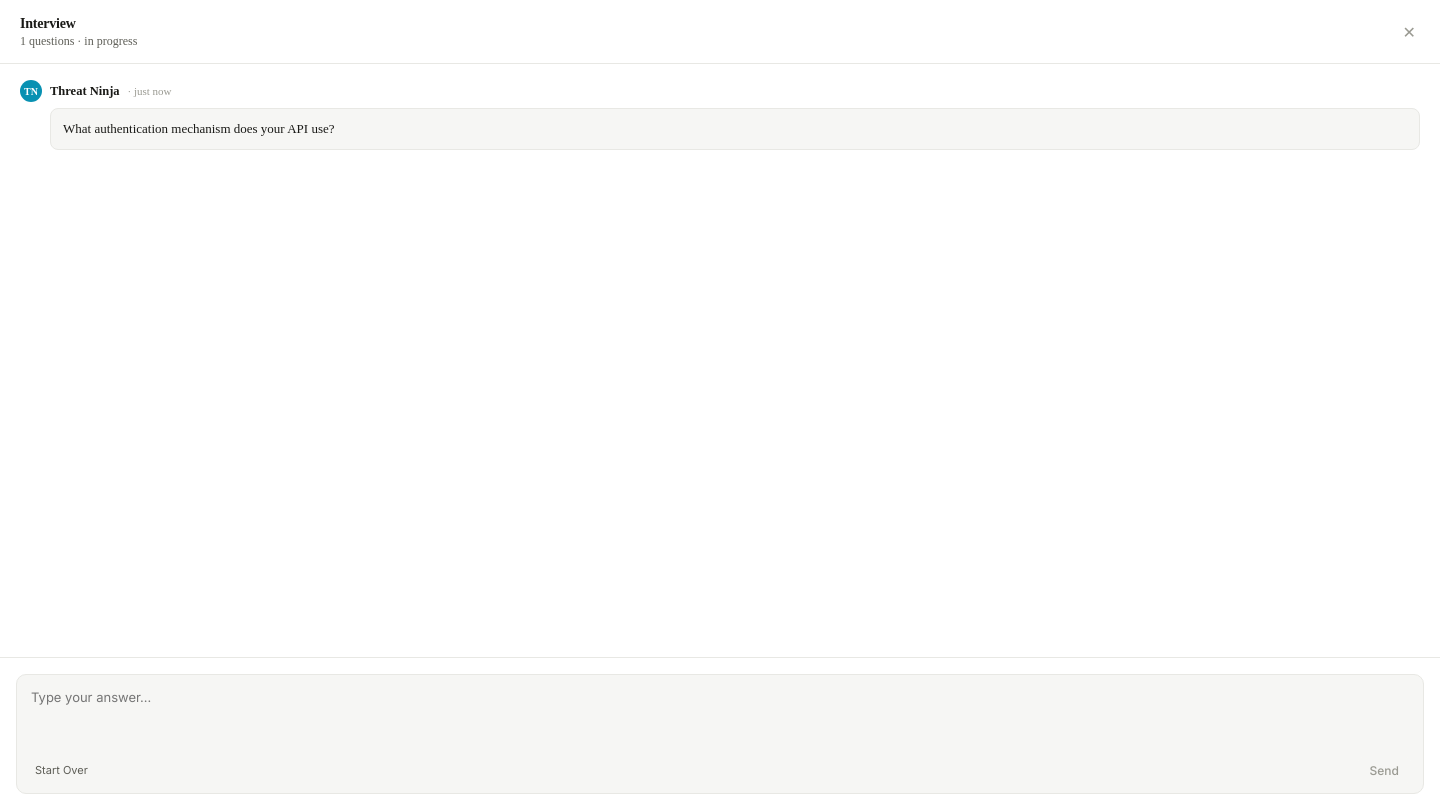
InterviewPanel › enables the Send button after typing
The width and height of the screenshot is (1440, 810).
Type "My answer" into the field at (720, 717), box top-left (29, 685), bottom-right (1411, 749)
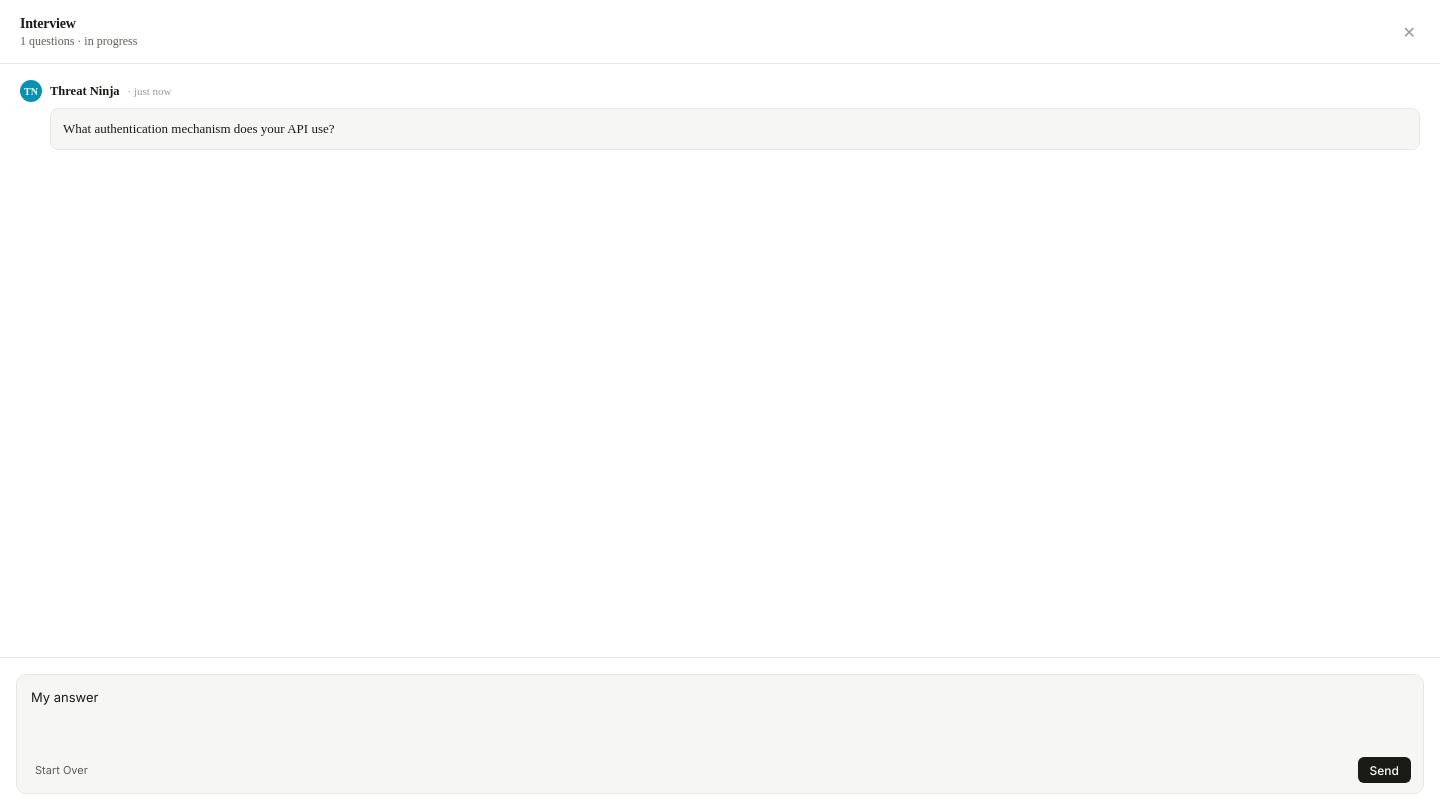
Now the button "Send" is enabled, box top-left (1358, 757), bottom-right (1411, 783)
